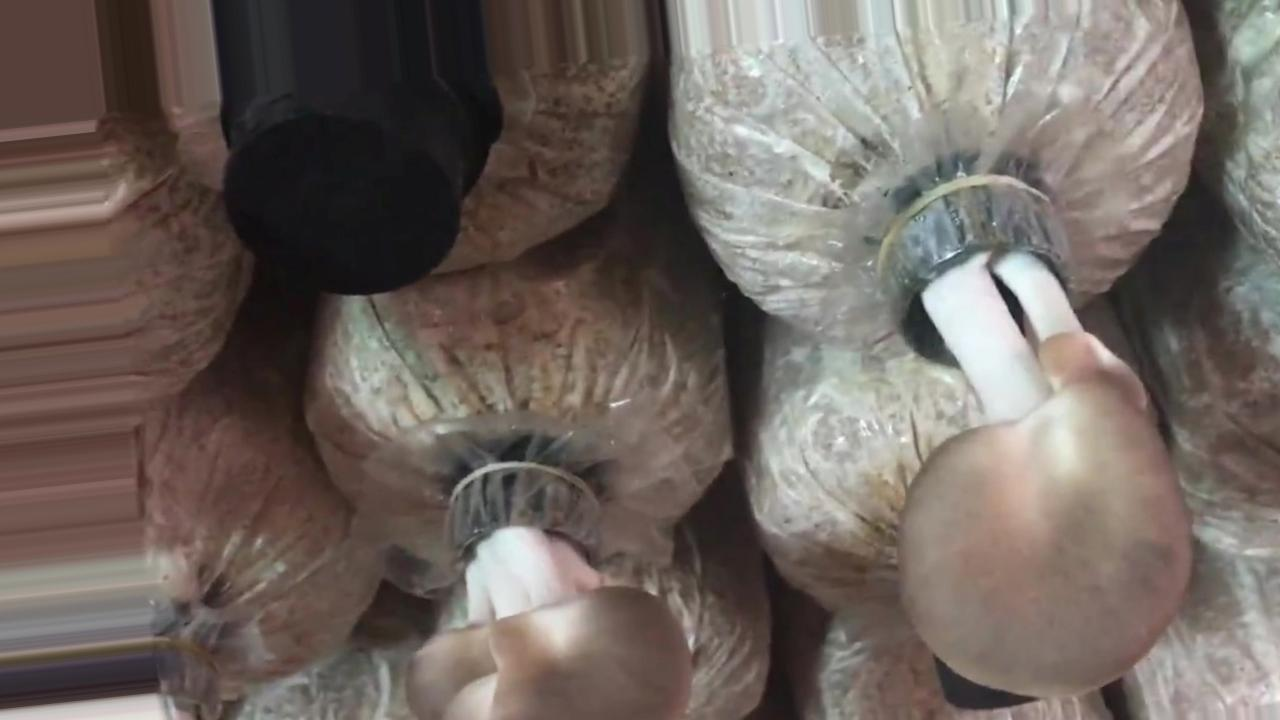nam: (896, 183, 1193, 695), (411, 467, 692, 720)
